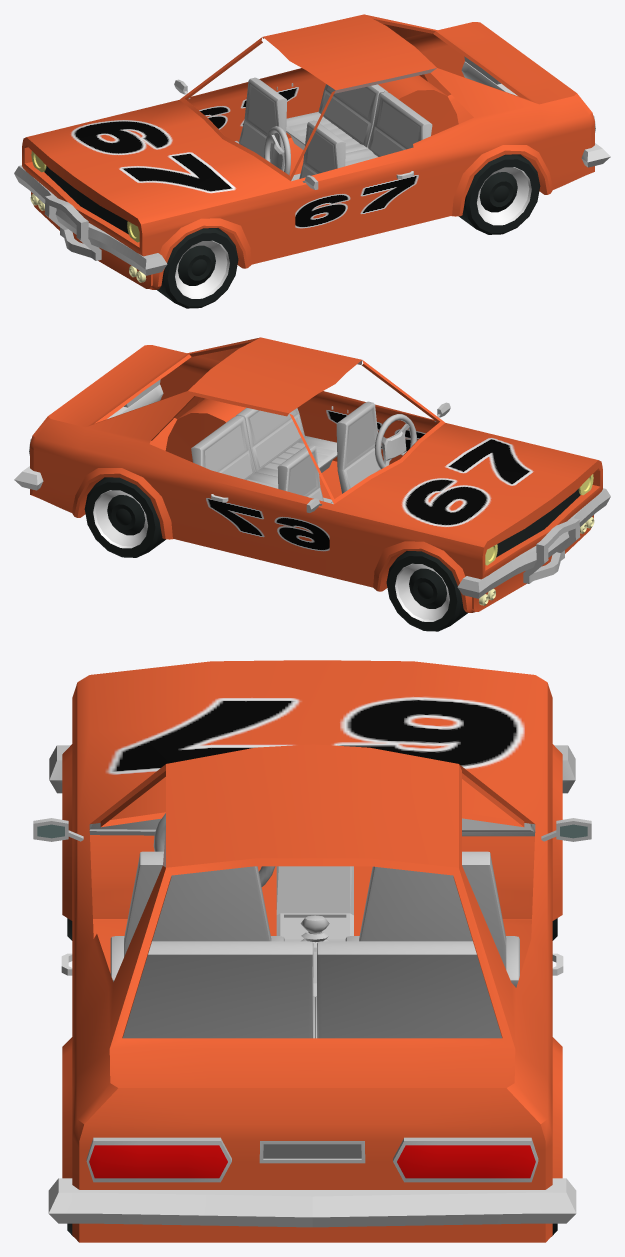
Rendered from insideCar.obj.
3 renders of one model, top to bottom at view 1: azimuth 30°, elevation 25°; view 2: azimuth 150°, elevation 25°; view 3: azimuth 270°, elevation 25°, orthographic. The views are drawn at different scales.
Parts seen in each view (by area): view 1: car2_car2.017, Interior_Mesh.011, whell.002_car2.020, whell.003_car2.021, Steerwheel_Mesh.012; view 2: car2_car2.017, Interior_Mesh.011, whell.001_car2.019, whell_car2.018, Steerwheel_Mesh.012; view 3: car2_car2.017, Interior_Mesh.011.
Part boxes in pixels (<box>): car2_car2.017: <box>14,14,610,289</box>; Interior_Mesh.011: <box>235,77,432,181</box>; whell.002_car2.020: <box>459,154,540,234</box>; whell.003_car2.021: <box>156,228,238,308</box>; Steerwheel_Mesh.012: <box>264,126,290,174</box>; car2_car2.017: <box>14,337,610,612</box>; Interior_Mesh.011: <box>191,401,383,504</box>; whell.001_car2.019: <box>84,477,165,557</box>; whell_car2.018: <box>386,551,468,631</box>; Steerwheel_Mesh.012: <box>374,414,416,469</box>; car2_car2.017: <box>33,660,591,1242</box>; Interior_Mesh.011: <box>89,818,535,1038</box>.
Bounding box in the file's own units: 3.96 × 1.3 × 1.97.
